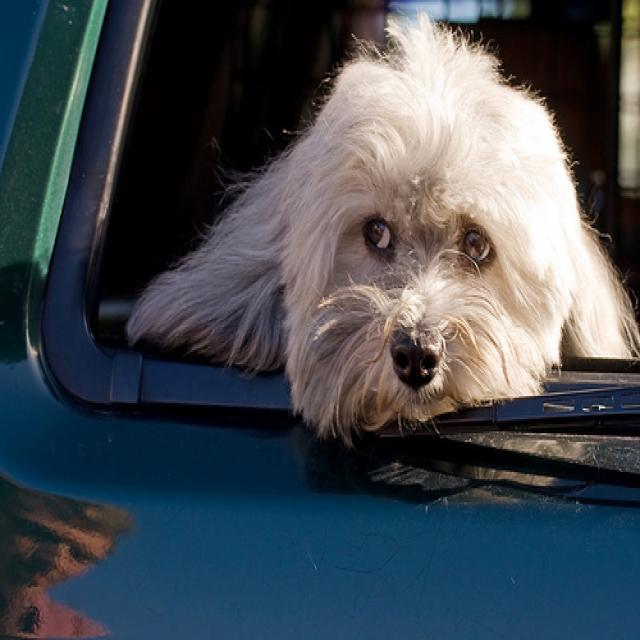dog-havanese: (125, 28, 634, 442)
